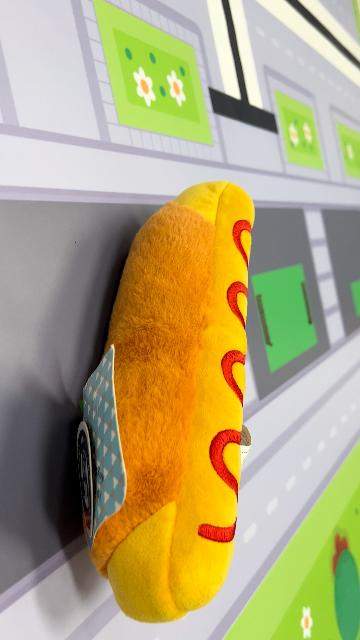hotdog: (75, 180, 257, 624)
